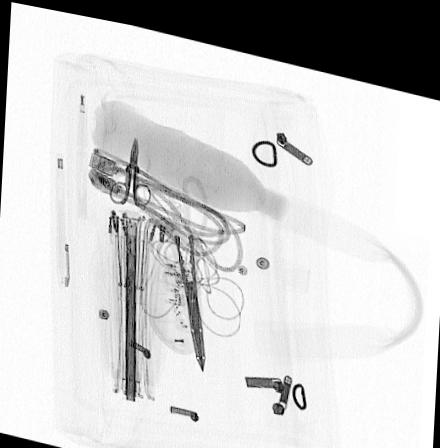Scissors: (145, 166, 210, 366), (108, 131, 154, 204)
